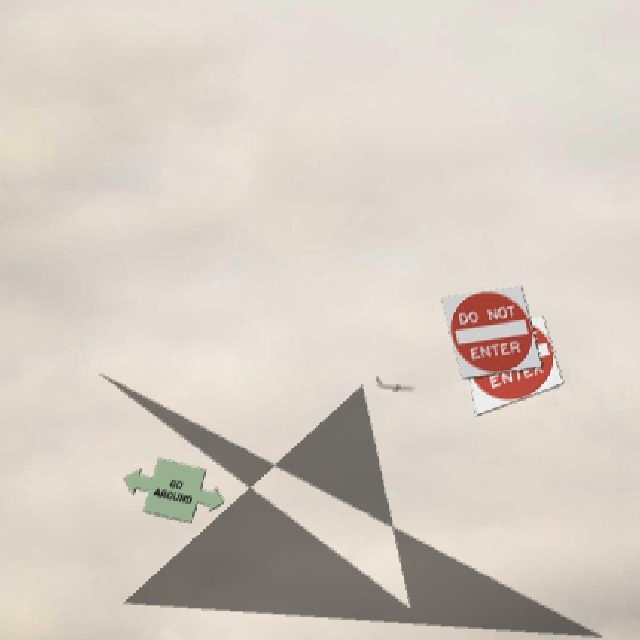DO_NOT_ENTER: (462, 314, 564, 415), (441, 284, 543, 378)
GO_AROUND: (123, 456, 225, 522)
